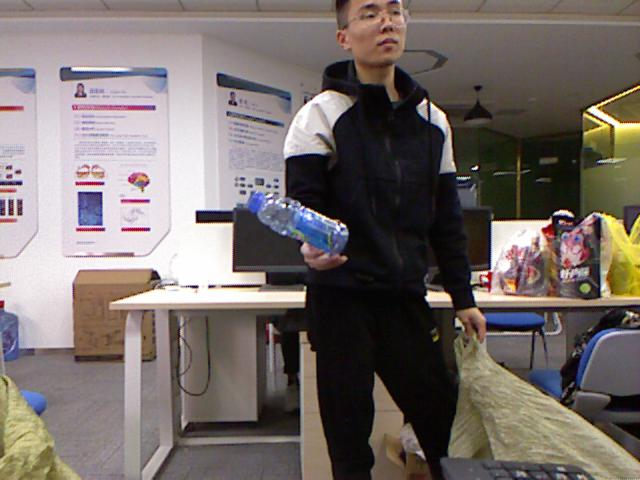cardboard paper: (74, 269, 158, 359)
plastic: (246, 191, 347, 253)
